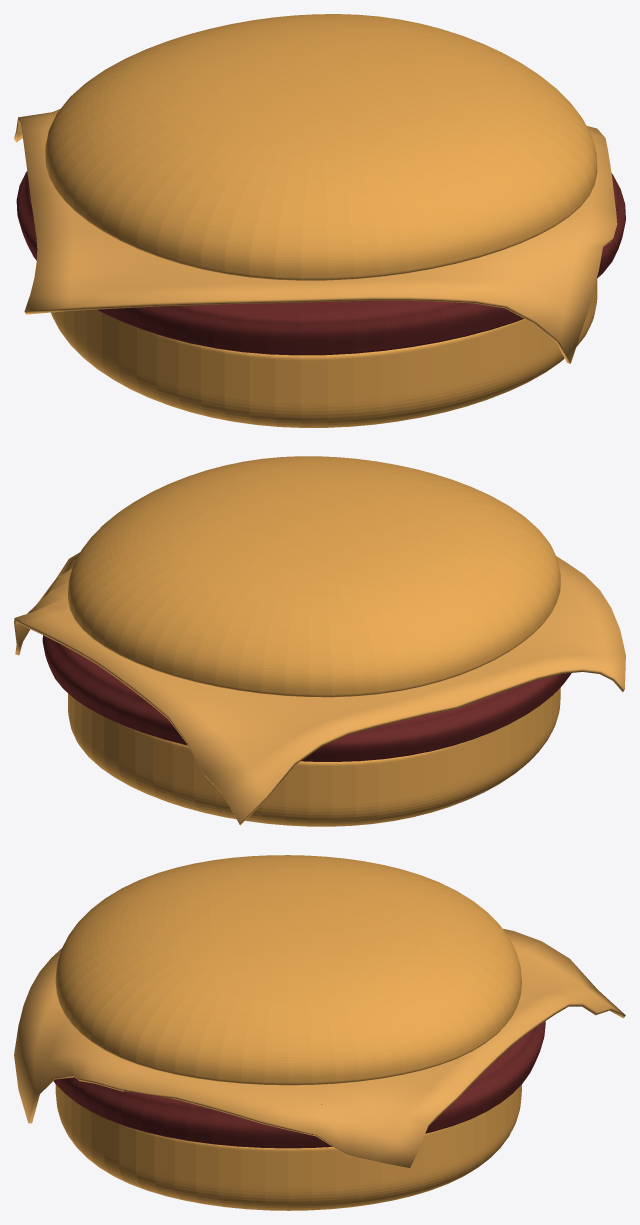
File: burger.glb
3 views of the same model, one above another, from view 1: azimuth 30°, elevation 25°; view 2: azimuth 150°, elevation 25°; view 3: azimuth 270°, elevation 25° (orthographic). The views are drawn at different scales.
Parts seen in each view (by area): view 1: Cube.002, Plane, Cube, Cube.001; view 2: Cube.002, Plane, Cube, Cube.001; view 3: Cube.002, Plane, Cube, Cube.001.
Part boxes in pixels (x1=…): Cube.002: x1=45, y1=14, x2=597, y2=280; Plane: x1=14, y1=109, x2=617, y2=363; Cube: x1=51, y1=279, x2=597, y2=427; Cube.001: x1=16, y1=171, x2=625, y2=355; Cube.002: x1=68, y1=456, x2=560, y2=697; Plane: x1=14, y1=552, x2=625, y2=825; Cube: x1=68, y1=688, x2=560, y2=826; Cube.001: x1=42, y1=635, x2=571, y2=761; Cube.002: x1=55, y1=855, x2=521, y2=1085; Plane: x1=14, y1=929, x2=625, y2=1167; Cube: x1=55, y1=1084, x2=521, y2=1210; Cube.001: x1=53, y1=1021, x2=545, y2=1148.
Size of the model in its own units: 11.98 by 5.2 by 12.24.
